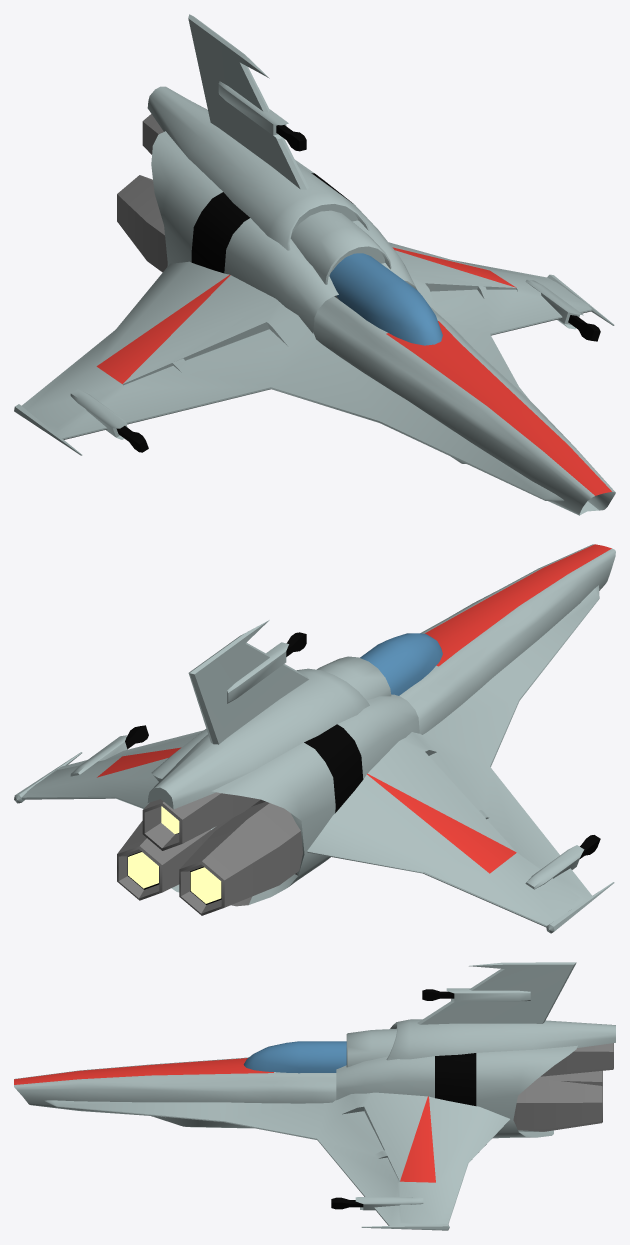
The model's file is spaceShip.glb.
3 views of the same model, one above another, from view 1: azimuth 30°, elevation 25°; view 2: azimuth 150°, elevation 25°; view 3: azimuth 270°, elevation 25° (orthographic). The views are drawn at different scales.
Parts seen in each view (by area): view 1: colmftr2co#2_001; view 2: colmftr2co#2_001, fire; view 3: colmftr2co#2_001.
Boxes of the visible parts, x1=… form: colmftr2co#2_001: x1=14, y1=14, x2=615, y2=515; colmftr2co#2_001: x1=14, y1=544, x2=615, y2=933; fire: x1=128, y1=806, x2=221, y2=903; colmftr2co#2_001: x1=14, y1=962, x2=615, y2=1230.
Size of the model in its own units: 6.95 by 3.25 by 9.86.
